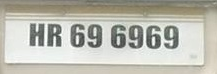6: (109, 24, 127, 50), (69, 22, 86, 48), (145, 25, 162, 50)
9: (163, 25, 181, 51), (127, 24, 144, 51), (87, 24, 103, 49)
H: (29, 22, 46, 47)
R: (47, 23, 63, 48)
